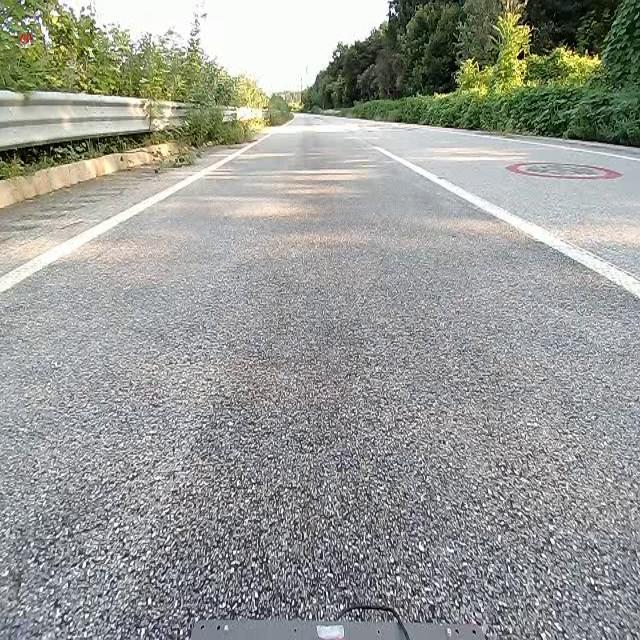Lane: (372, 137, 640, 303), (0, 132, 258, 297), (373, 146, 639, 298), (0, 141, 257, 294)
